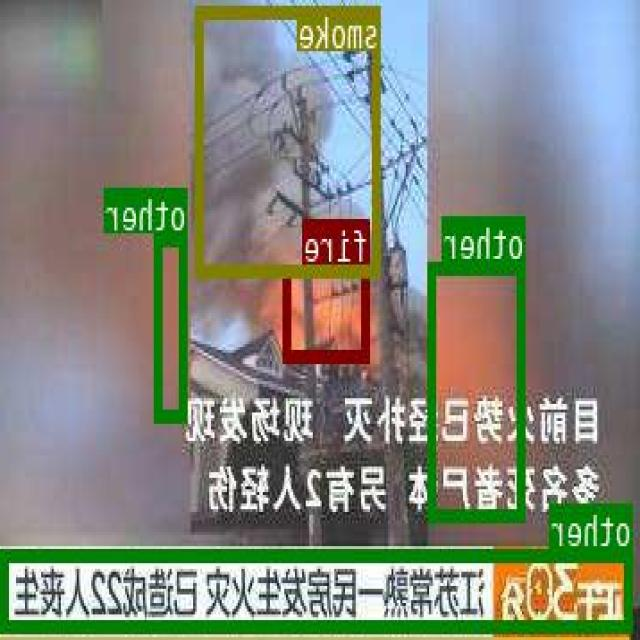fire: (286, 263, 371, 361)
other: (4, 547, 634, 629), (430, 260, 527, 518), (157, 232, 189, 418)
smoke: (197, 3, 382, 274)
